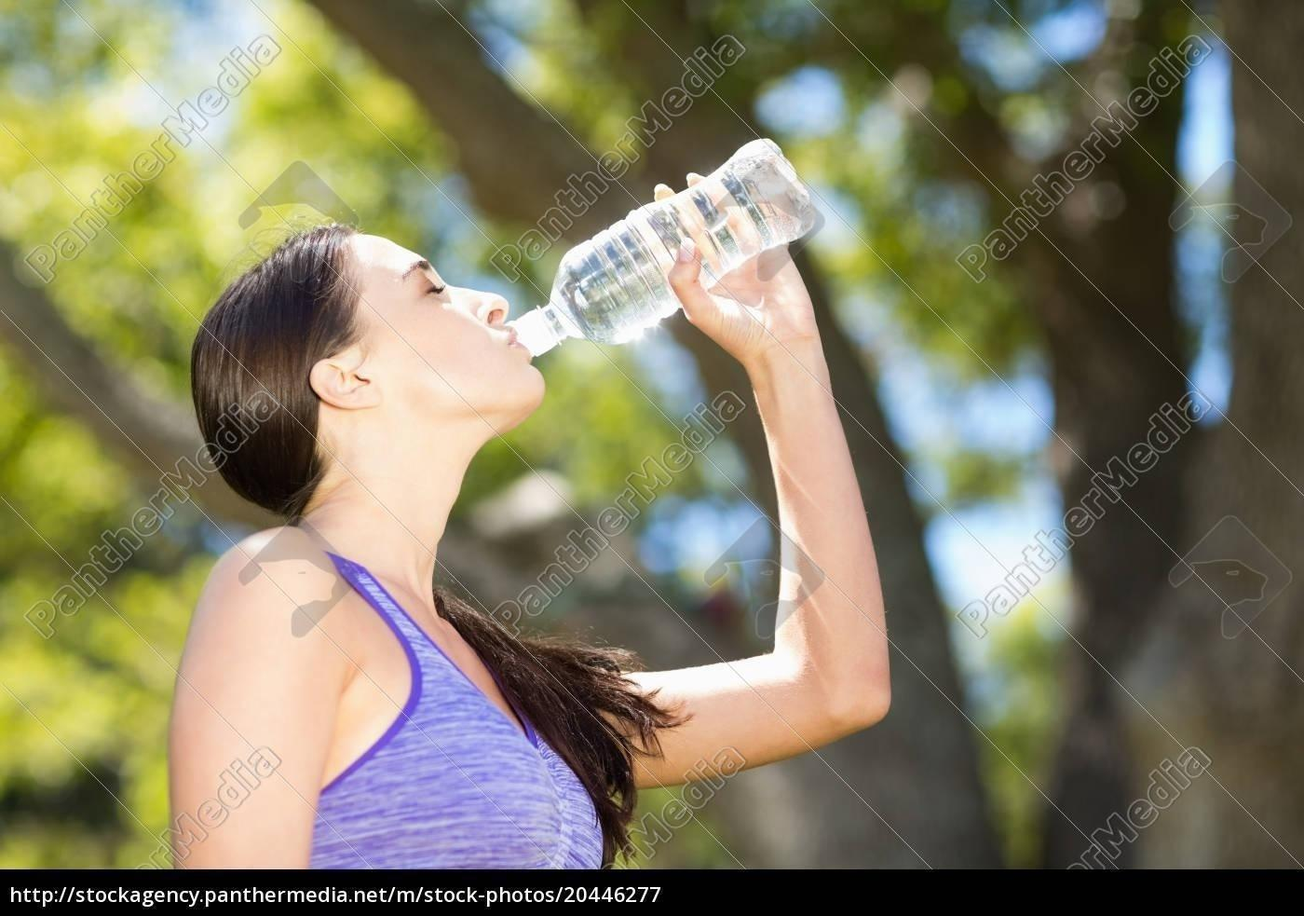bottle-plastic: (517, 136, 820, 354)
